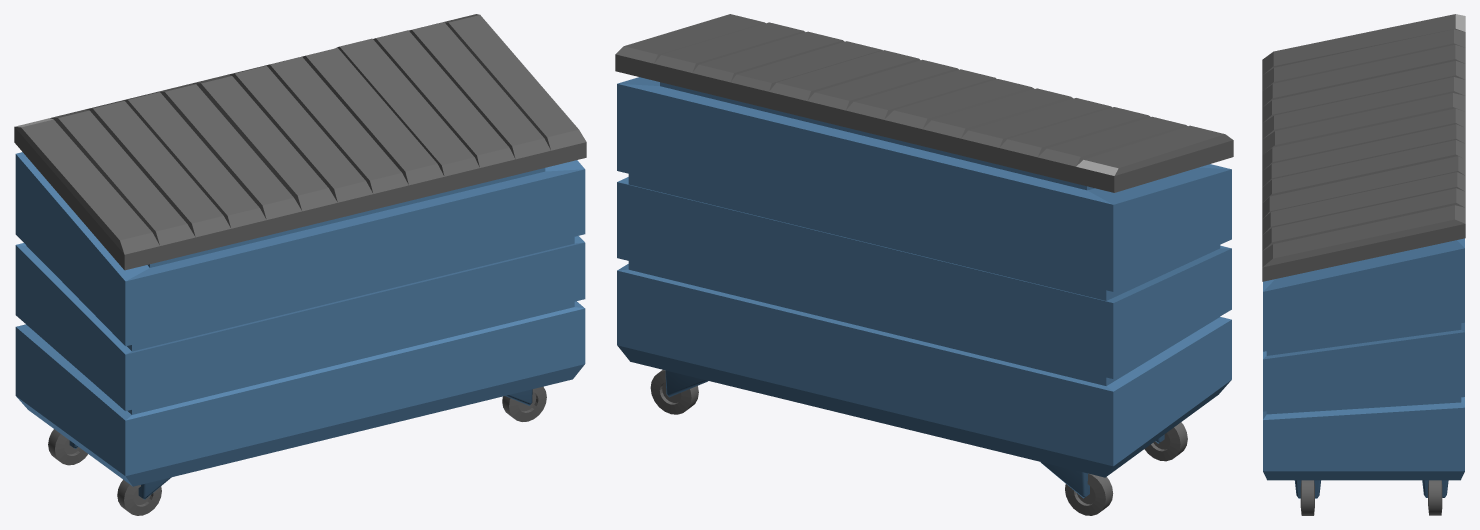
Rendered from DUMPSTER BLUE.fbx.
The picture shows the model from 3 angles, left to right: view 1: azimuth 30°, elevation 25°; view 2: azimuth 150°, elevation 25°; view 3: azimuth 270°, elevation 25°; orthographic projection. The views are drawn at different scales.
Parts seen in each view (by area): view 1: pCube1, polySurface2, polySurface8, polySurface4; view 2: pCube1, polySurface4, polySurface6, polySurface2, polySurface3; view 3: pCube1, polySurface6, polySurface8.
Boxes of the visible parts, bbox=[...] form: pCube1: bbox=[14, 14, 586, 486]; polySurface2: bbox=[117, 479, 161, 515]; polySurface8: bbox=[502, 386, 546, 421]; polySurface4: bbox=[48, 429, 87, 465]; pCube1: bbox=[615, 14, 1233, 477]; polySurface4: bbox=[1065, 473, 1113, 515]; polySurface6: bbox=[650, 370, 698, 414]; polySurface2: bbox=[1144, 422, 1187, 461]; polySurface3: bbox=[1040, 462, 1089, 498]; pCube1: bbox=[1262, 14, 1465, 480]; polySurface6: bbox=[1428, 480, 1442, 515]; polySurface8: bbox=[1300, 480, 1314, 515].
Bounding box in the file's own units: 0.0879 × 0.0615 × 0.0363.
